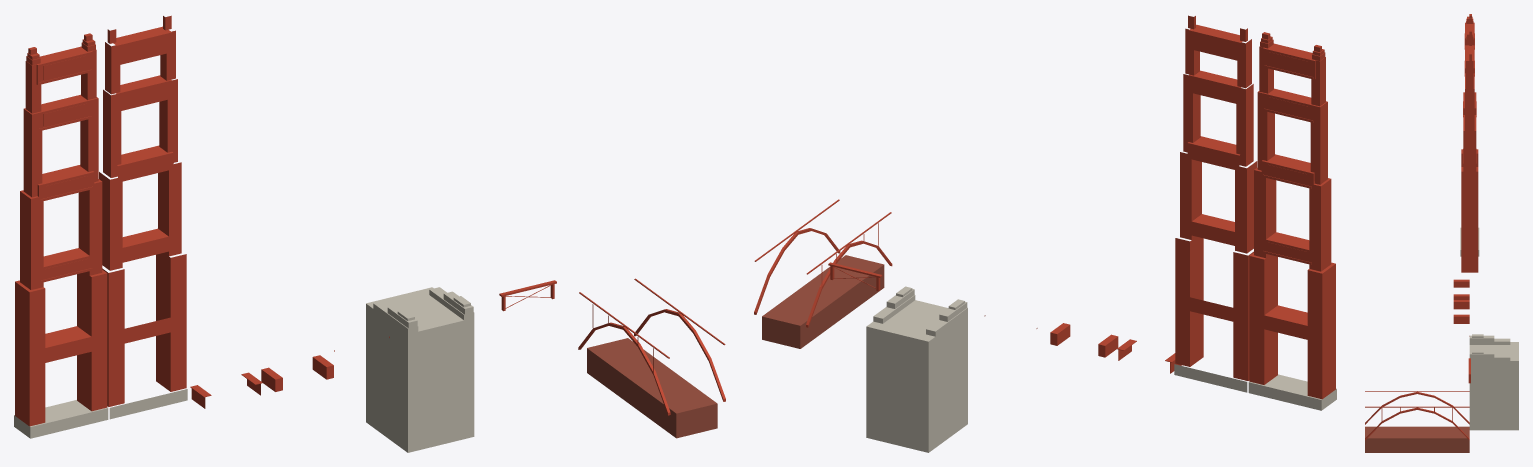
File: golden-gate.glb
3 views of the same model, side by side, from view 1: azimuth 30°, elevation 25°; view 2: azimuth 150°, elevation 25°; view 3: azimuth 270°, elevation 25° (orthographic). The views are drawn at different scales.
Parts seen in each view (by area): view 1: gg_tower_lod1_body, gg_tower_lod0_body, gg_anchorage_body, gg_fort_arch_body, gg_tower_lod0, gg_bay_lod1_body; view 2: gg_tower_lod1_body, gg_tower_lod0_body, gg_anchorage_body, gg_fort_arch_body, gg_tower_lod0_panel_17_5_0_n1, gg_tower_lod0_panel_n17_5_0_n1, gg_tower_lod0_panel_n17_5_1_n1, gg_bay_lod1_body, gg_tower_lod0_panel_17_5_1_n1; view 3: gg_anchorage_body, gg_fort_arch_body, gg_tower_lod1_body, gg_tower_lod0_body, gg_bay_lod1_body, gg_bay_lod0_body.
Part boxes in pixels (x1,y1,x2,y2): gg_tower_lod1_body: (99,15,187,419); gg_tower_lod0_body: (14,33,108,438); gg_anchorage_body: (366,287,474,452); gg_fort_arch_body: (578,278,725,438); gg_tower_lod0: (32,53,104,423); gg_bay_lod1_body: (261,355,333,391); gg_tower_lod1_body: (1174,15,1257,392); gg_tower_lod0_body: (1248,32,1336,410); gg_anchorage_body: (866,286,967,452); gg_fort_arch_body: (754,199,892,348); gg_tower_lod0_panel_17_5_0_n1: (1251,259,1261,382); gg_tower_lod0_panel_n17_5_0_n1: (1310,273,1319,396); gg_tower_lod0_panel_n17_5_1_n1: (1311,186,1319,268); gg_bay_lod1_body: (1050,323,1118,357); gg_tower_lod0_panel_17_5_1_n1: (1256,173,1263,255); gg_anchorage_body: (1469,334,1518,430); gg_fort_arch_body: (1365,391,1469,452); gg_tower_lod1_body: (1461,38,1478,272); gg_tower_lod0_body: (1460,14,1479,256); gg_bay_lod1_body: (1453,300,1469,323); gg_bay_lod0_body: (1453,279,1469,296).
Size of the model in its own units: 388 by 299 by 144.
